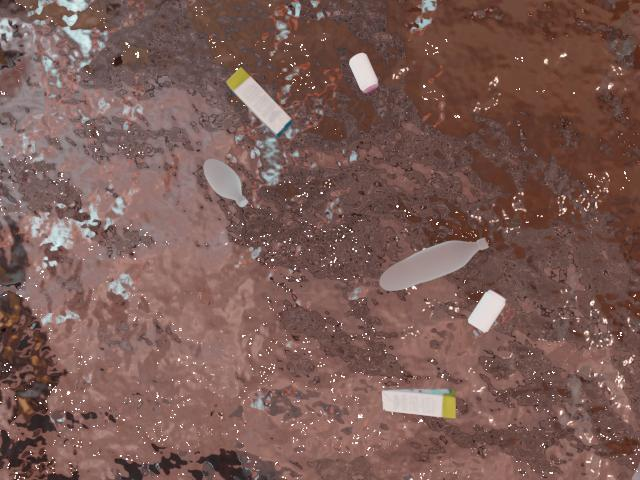Metal: (332, 37, 394, 101), (462, 282, 511, 336)
Plastic: (361, 209, 501, 306), (190, 152, 258, 226)
Trash: (214, 64, 300, 137), (367, 374, 467, 427)
